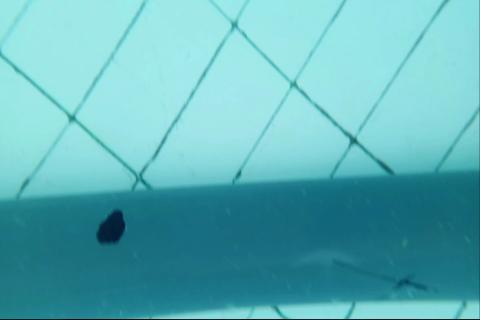kebocoran: (97, 208, 126, 247)
keretakan: (331, 257, 439, 300)
